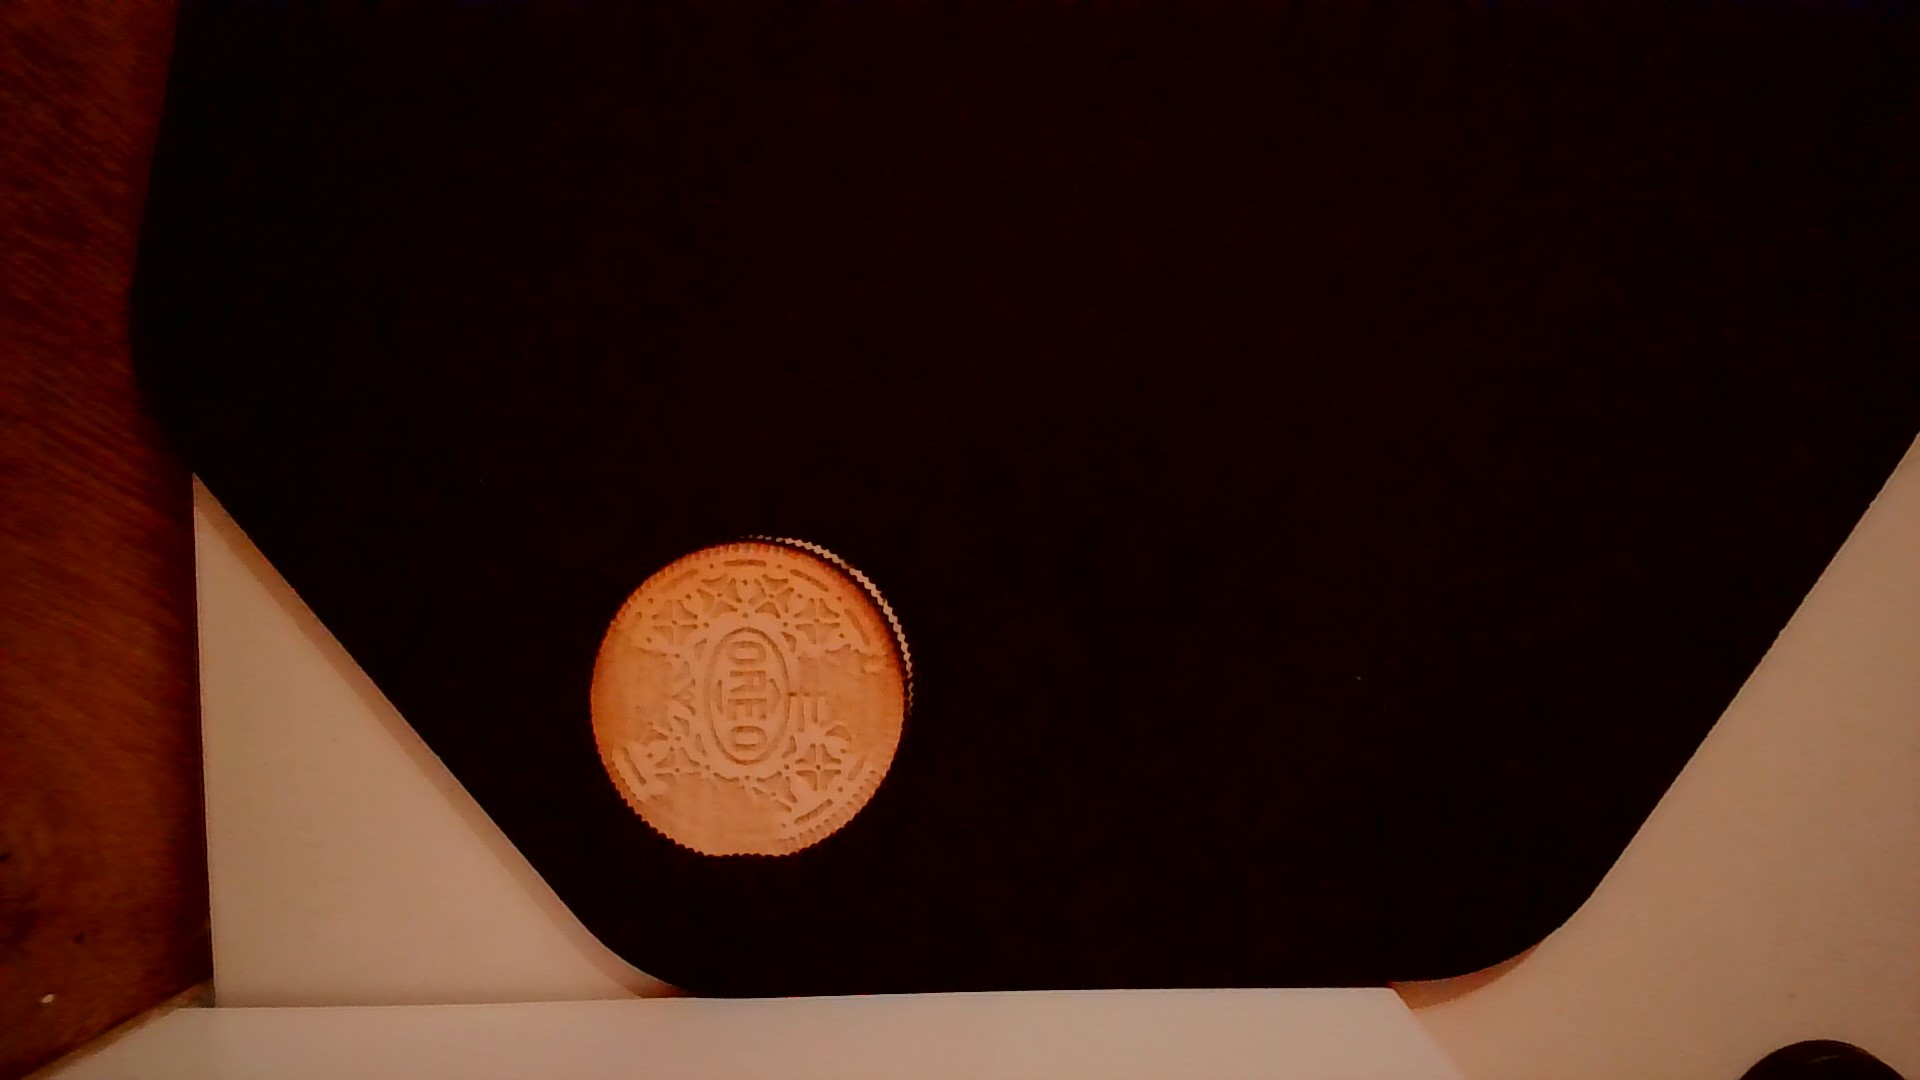Effacé: (649, 775, 774, 851), (815, 657, 895, 760), (597, 649, 669, 746)
Oréo: (583, 527, 916, 865)
